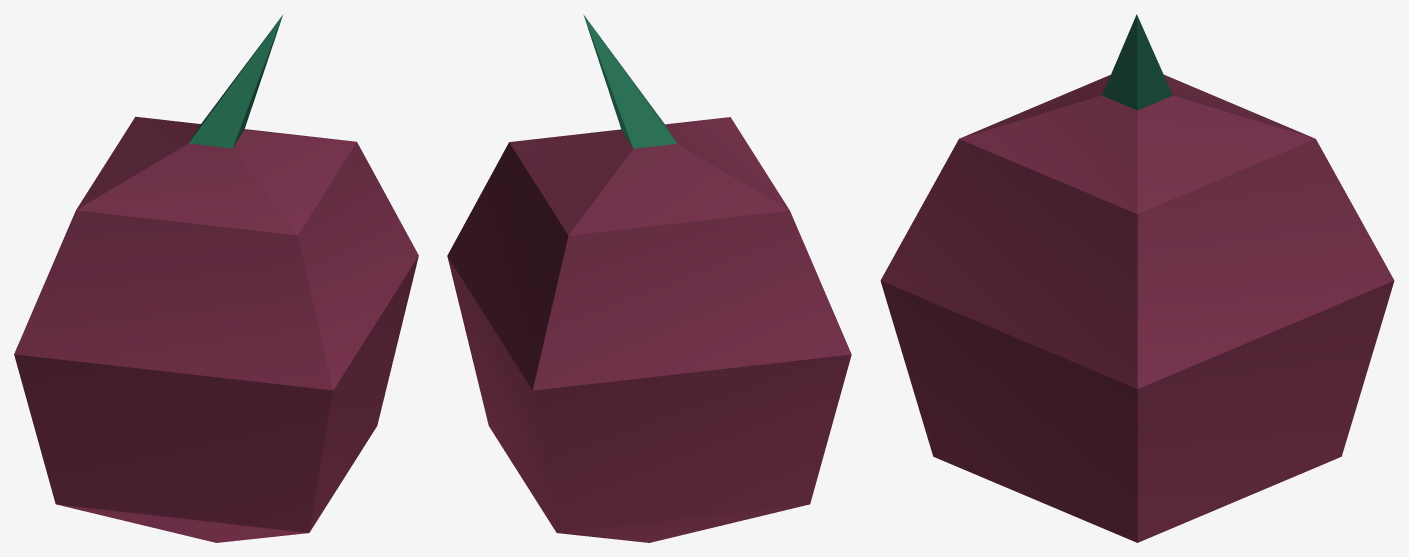
Rendered from FrutaBuild.fbx.
The picture shows the model from 3 angles, left to right: view 1: azimuth 30°, elevation 25°; view 2: azimuth 150°, elevation 25°; view 3: azimuth 270°, elevation 25°; orthographic projection. The views are drawn at different scales.
Parts seen in each view (by area): view 1: FrutaModelo; view 2: FrutaModelo; view 3: FrutaModelo.
Part boxes in pixels (bbox=[...]): FrutaModelo: bbox=[14, 15, 418, 542]; FrutaModelo: bbox=[447, 14, 851, 542]; FrutaModelo: bbox=[880, 14, 1394, 542].
Size of the model in its own units: 3.39 by 4.1 by 3.39.
